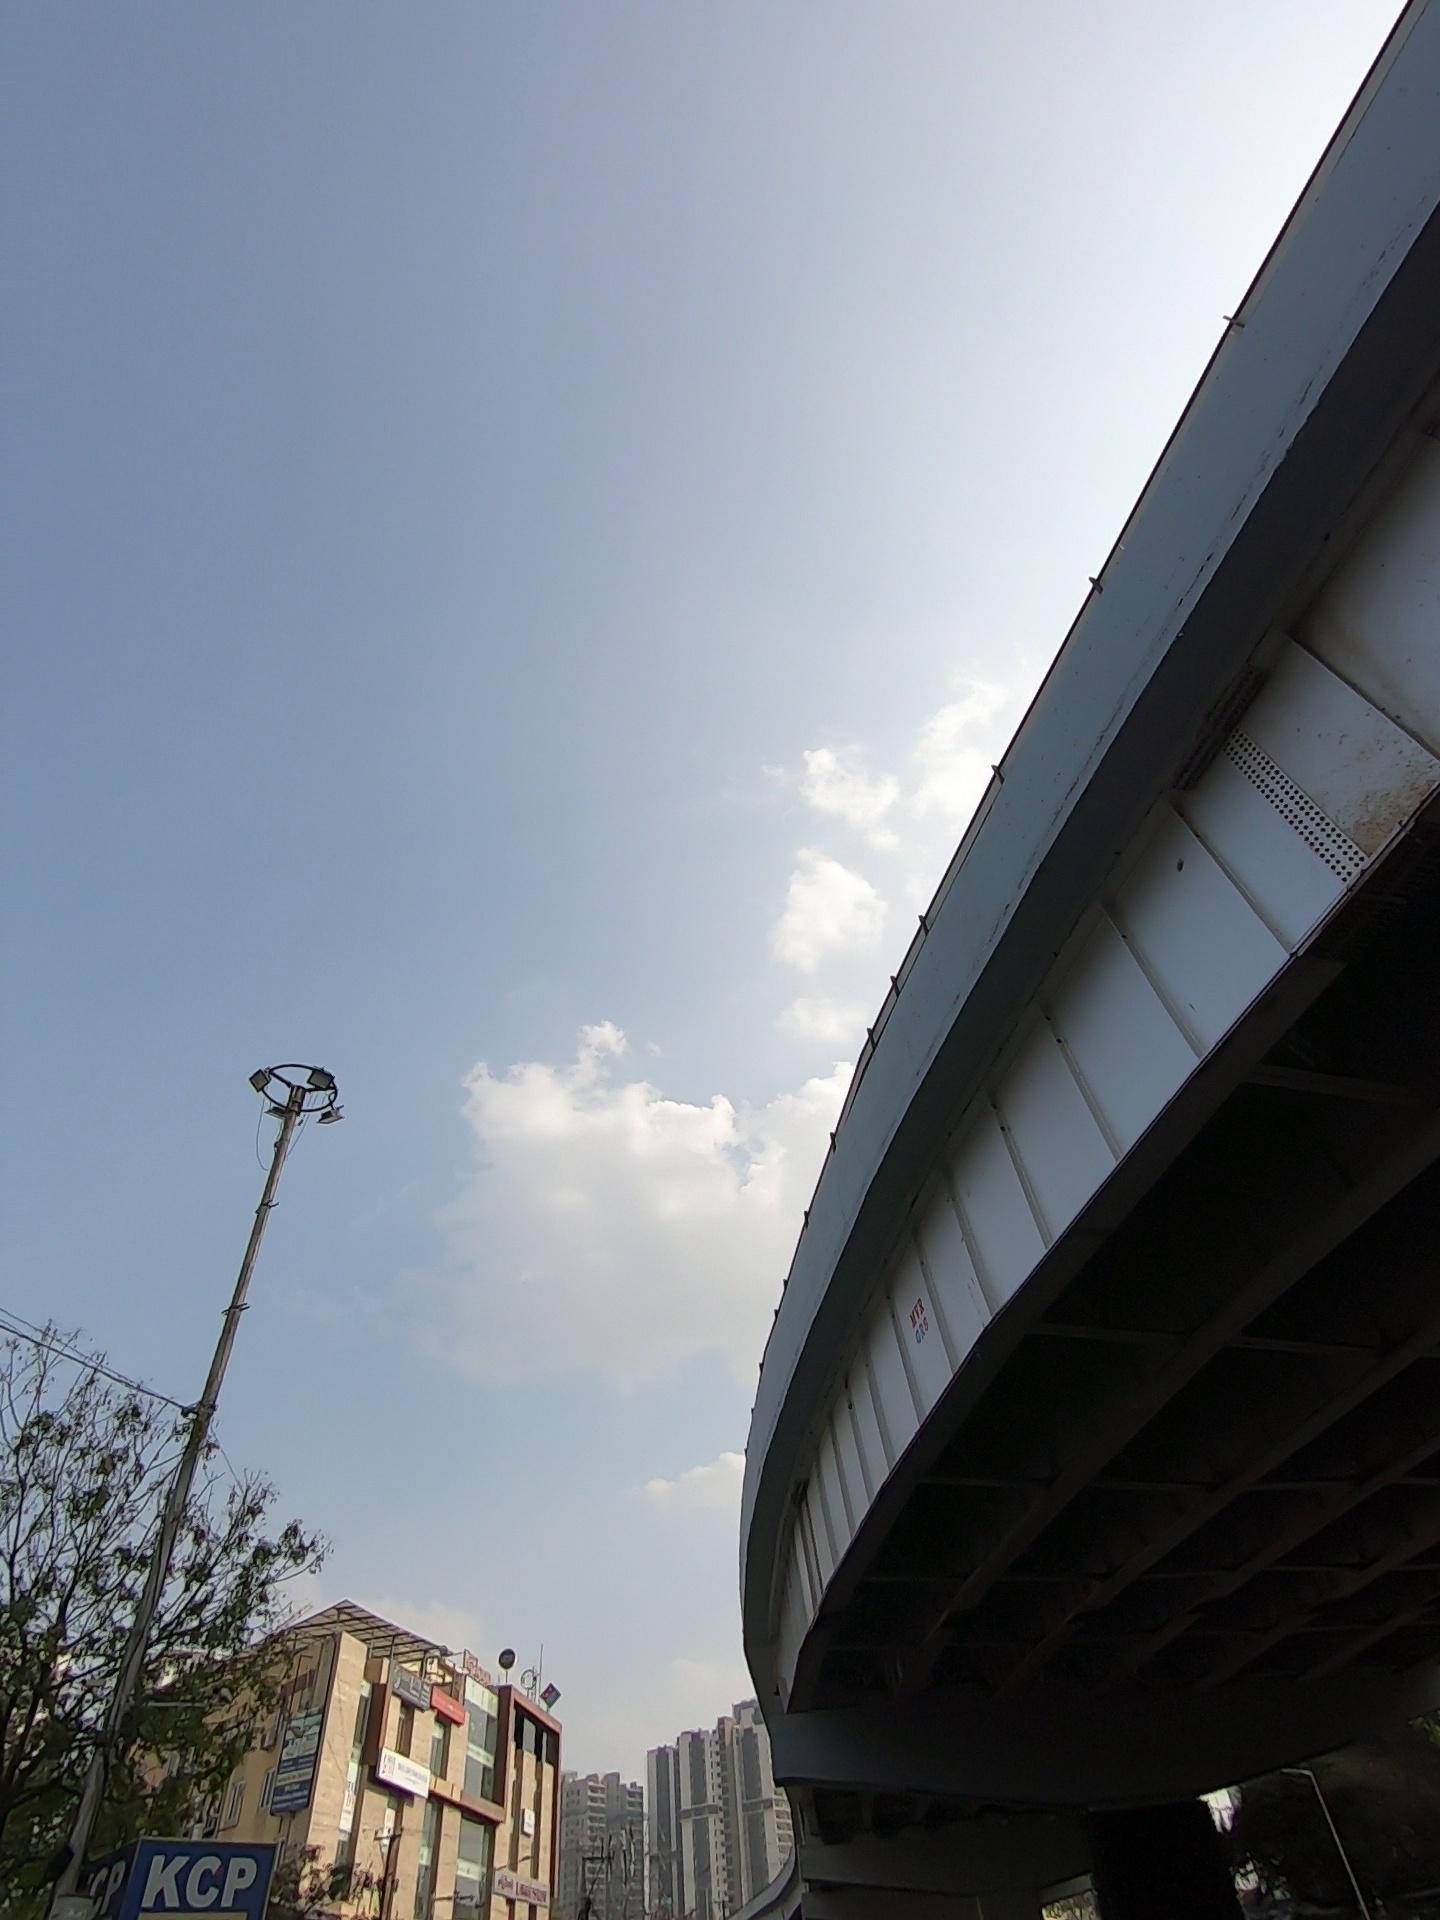off: (200, 996, 479, 1184)
